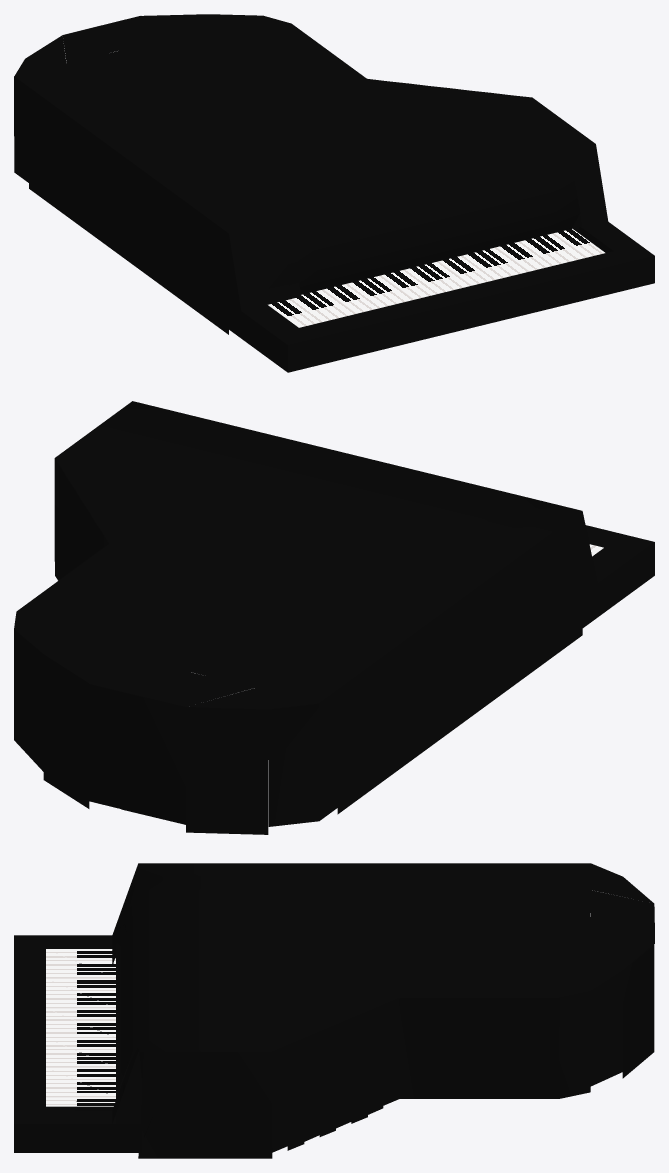
File: piano_00.gltf
3 renders of one model, top to bottom at view 1: azimuth 30°, elevation 25°; view 2: azimuth 150°, elevation 25°; view 3: azimuth 270°, elevation 25°, orthographic. The views are drawn at different scales.
Bounding box in the file's own units: 14 × 3.74 × 20.1.
1 material, 1 textured.
